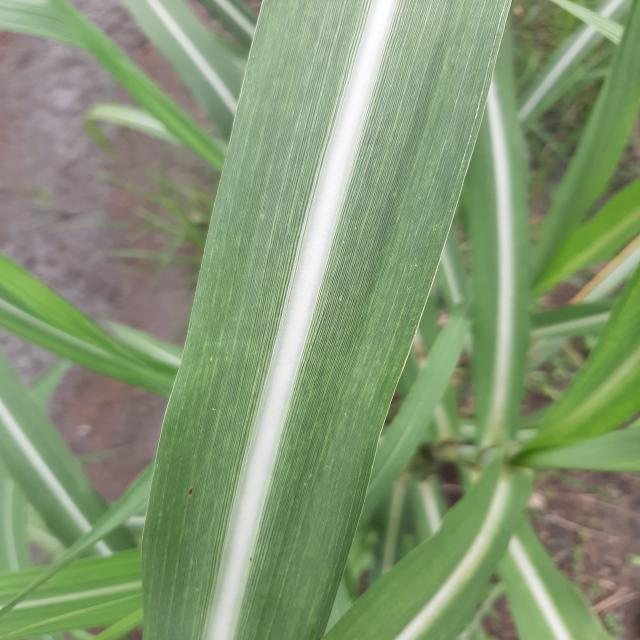Sugarcane: (138, 0, 513, 639)
